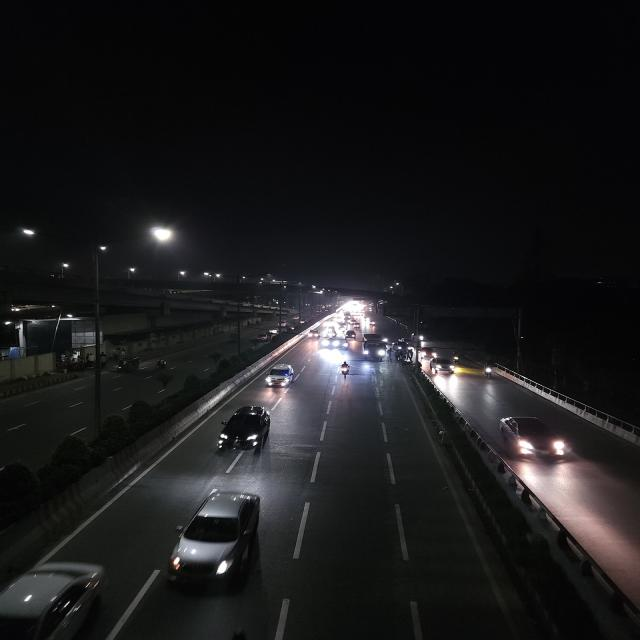bus: (361, 332, 388, 362)
car: (162, 486, 266, 602), (0, 554, 112, 640), (494, 413, 578, 465), (214, 399, 279, 463), (264, 362, 297, 389), (428, 356, 457, 374), (307, 328, 322, 341), (344, 329, 358, 341), (254, 333, 270, 343), (278, 320, 292, 327), (268, 328, 282, 334), (292, 315, 301, 321)
cng: (115, 355, 143, 375)
motorcycle: (481, 360, 495, 381), (153, 356, 171, 372), (338, 360, 352, 380), (343, 340, 350, 353)
pedestrian: (405, 348, 415, 363), (388, 348, 396, 362), (392, 348, 400, 359), (398, 350, 406, 360)
